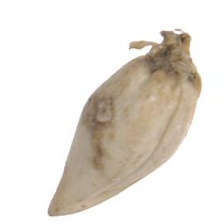L1: (142, 33, 196, 81), (45, 196, 74, 218)
L2: (48, 33, 202, 216)
